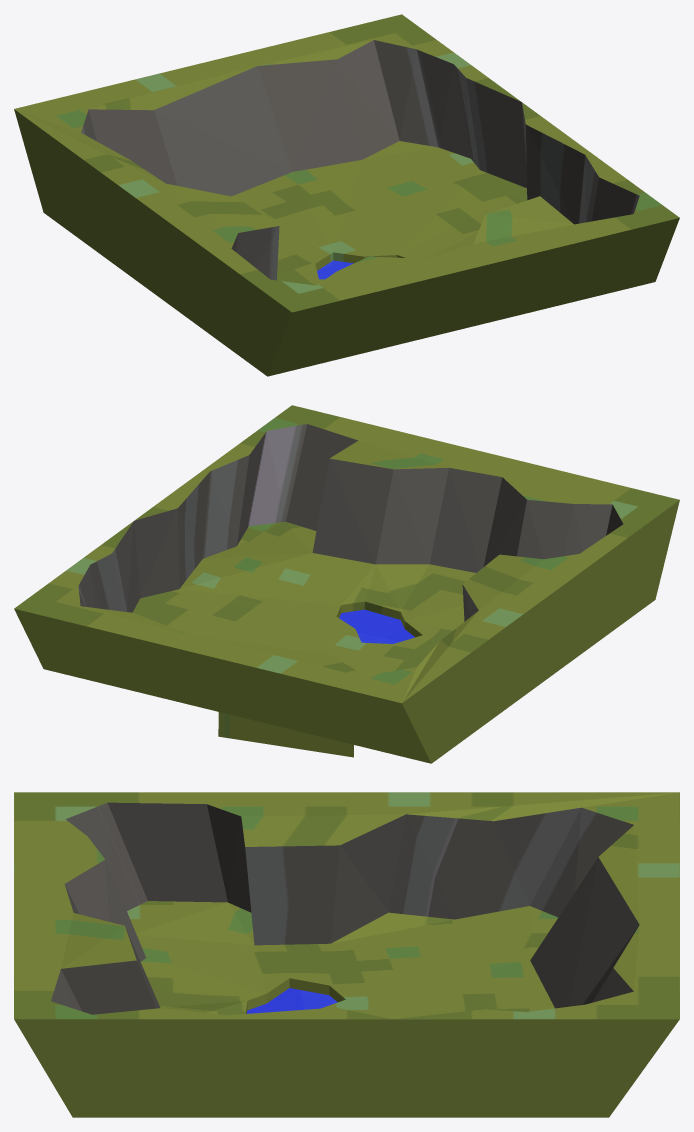
The model's file is Lvl1.dae.
3 renders of one model, top to bottom at view 1: azimuth 30°, elevation 25°; view 2: azimuth 150°, elevation 25°; view 3: azimuth 270°, elevation 25°, orthographic. The views are drawn at different scales.
Parts seen in each view (by area): view 1: Plane; view 2: Plane; view 3: Plane.
Part boxes in pixels (x1,y1,x2,y2): Plane: [14, 14, 679, 376]; Plane: [14, 405, 679, 763]; Plane: [14, 792, 679, 1117].
Bounding box in the file's own units: 100 × 124 × 32.7.
Materials: 3 (3 with a texture image).
